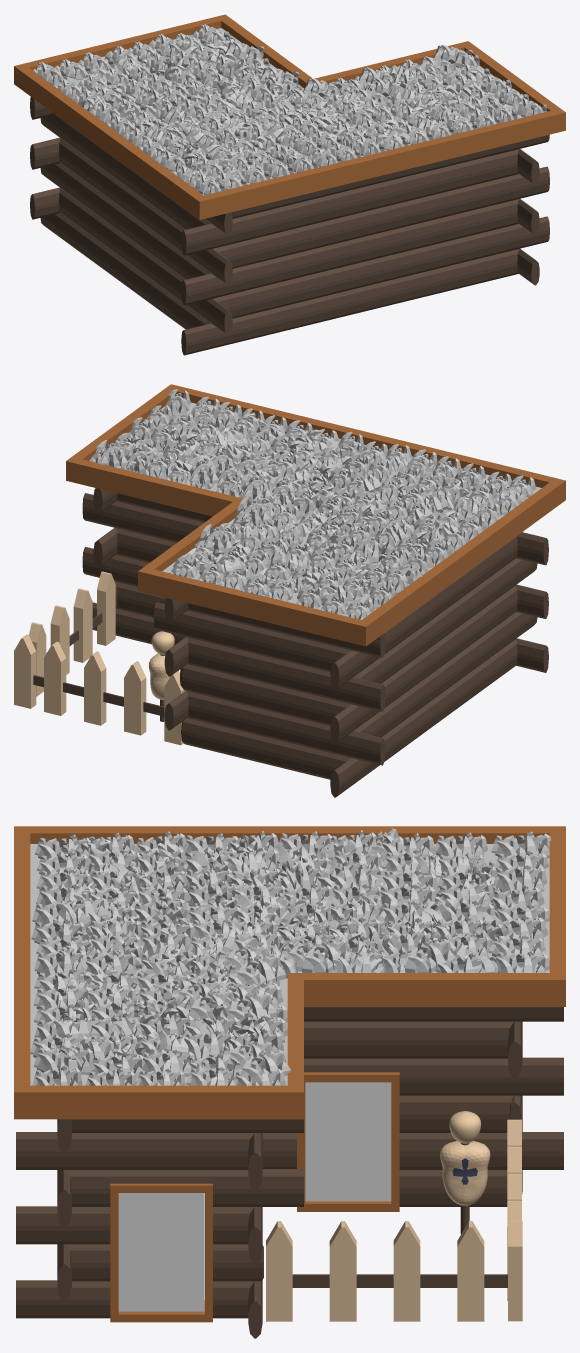
File: viking training house.fbx
The picture shows the model from 3 angles, top to bottom: view 1: azimuth 30°, elevation 25°; view 2: azimuth 150°, elevation 25°; view 3: azimuth 270°, elevation 25°; orthographic projection. The views are drawn at different scales.
Parts seen in each view (by area): view 1: grass; view 2: grass; view 3: grass, Bdoor, Fdoor.
Part boxes in pixels (box(x1,y1,x2,y2)): grass: box(14, 14, 565, 355); grass: box(14, 384, 565, 797); grass: box(14, 826, 565, 1338); Bdoor: box(305, 1082, 391, 1201); Fdoor: box(118, 1193, 204, 1311).
Size of the model in its own units: 1532 by 710 by 1344.
